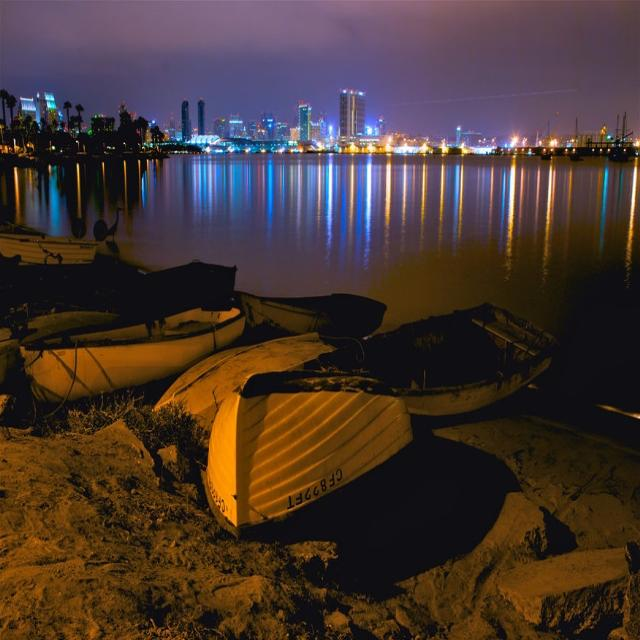Boat: (172, 305, 582, 566), (0, 274, 381, 457)
